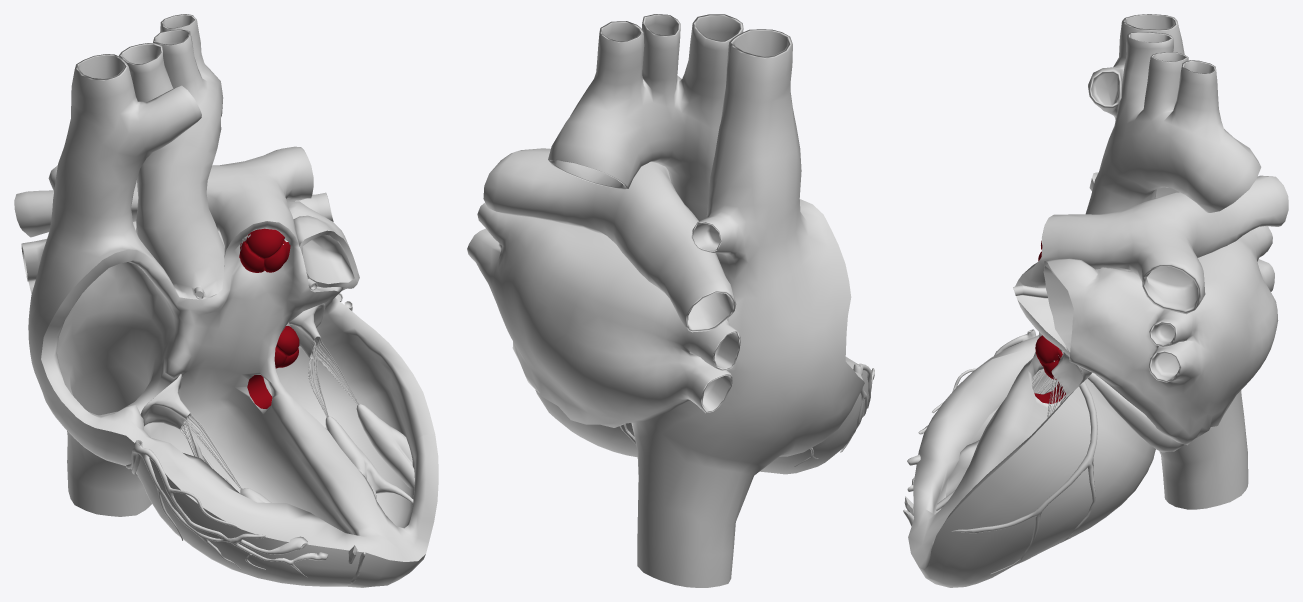
Rendered from Heart_Insidetof.gltf.
3 views of the same model, side by side, from view 1: azimuth 30°, elevation 25°; view 2: azimuth 150°, elevation 25°; view 3: azimuth 270°, elevation 25° (orthographic). The views are drawn at different scales.
Visible parts, largest first — view 1: heart_inside_01; view 2: heart_inside_01; view 3: heart_inside_01.
Part boxes in pixels (<box>): heart_inside_01: <box>14,14,438,587</box>; heart_inside_01: <box>467,14,874,587</box>; heart_inside_01: <box>903,14,1288,587</box>.
Size of the model in its own units: 0.0804 by 0.1194 by 0.0858.
